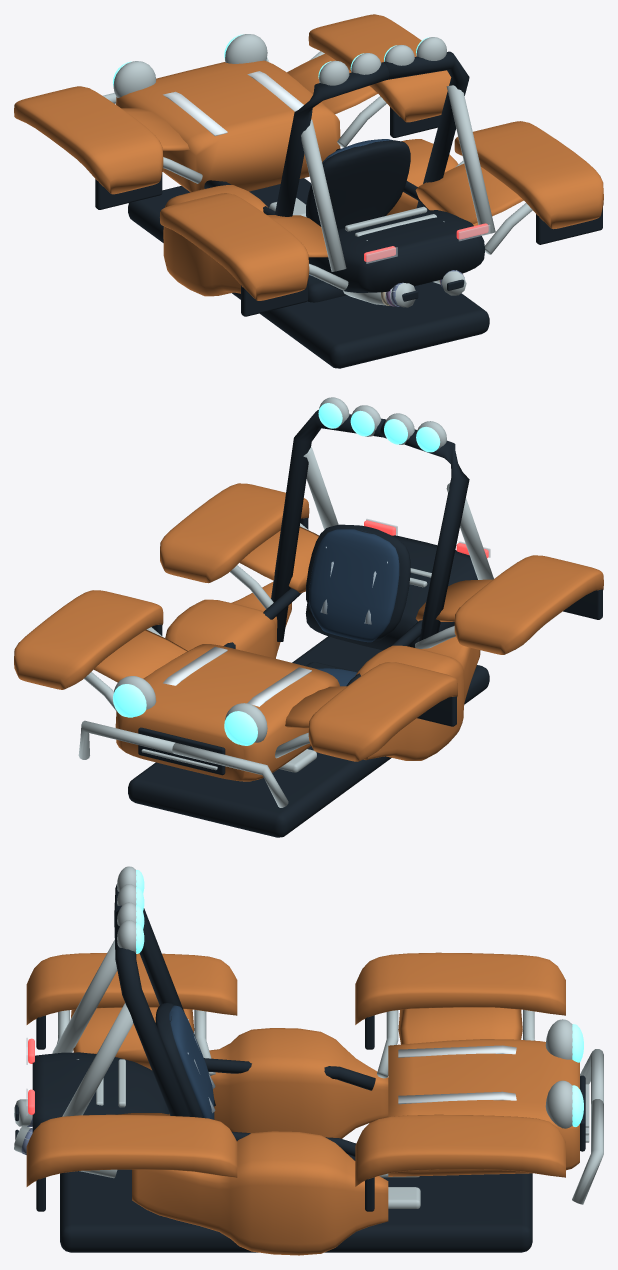
File: boru_rally.glb
The picture shows the model from 3 angles, top to bottom: view 1: azimuth 30°, elevation 25°; view 2: azimuth 150°, elevation 25°; view 3: azimuth 270°, elevation 25°; orthographic projection. The views are drawn at different scales.
Visible parts, largest first — view 1: LOD0, ShowroomDetail; view 2: LOD0; view 3: LOD0.
Boxes of the visible parts, left/top/right/bottom form: LOD0: left=14, top=14, right=603, bottom=368; ShowroomDetail: left=366, top=224, right=490, bottom=306; LOD0: left=14, top=397, right=603, bottom=837; LOD0: left=14, top=866, right=603, bottom=1255.
Size of what is drawn, in the model's own units: 1.92 by 1.41 by 2.37.
